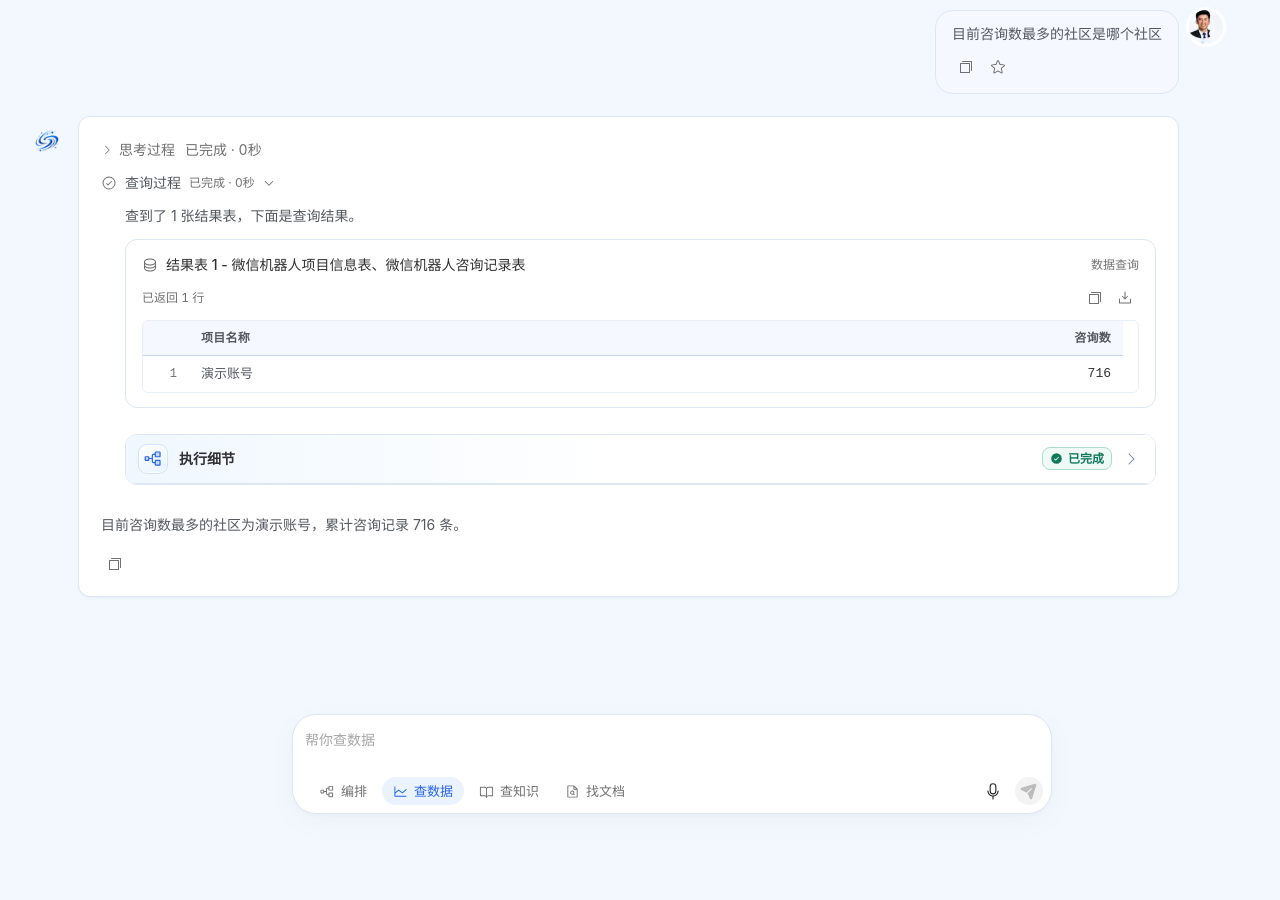
workflow page actions › nests execution and the visible result preview inside query
Expected: the text "目前咨询数最多的社区为演示账号，累计咨询记录 716 条。" is shown, x1=101 y1=516 x2=467 y2=533
Click the button "执行细节 已完成". click: {"x": 207, "y": 458}
box: x1=138 y1=439 x2=1147 y2=479
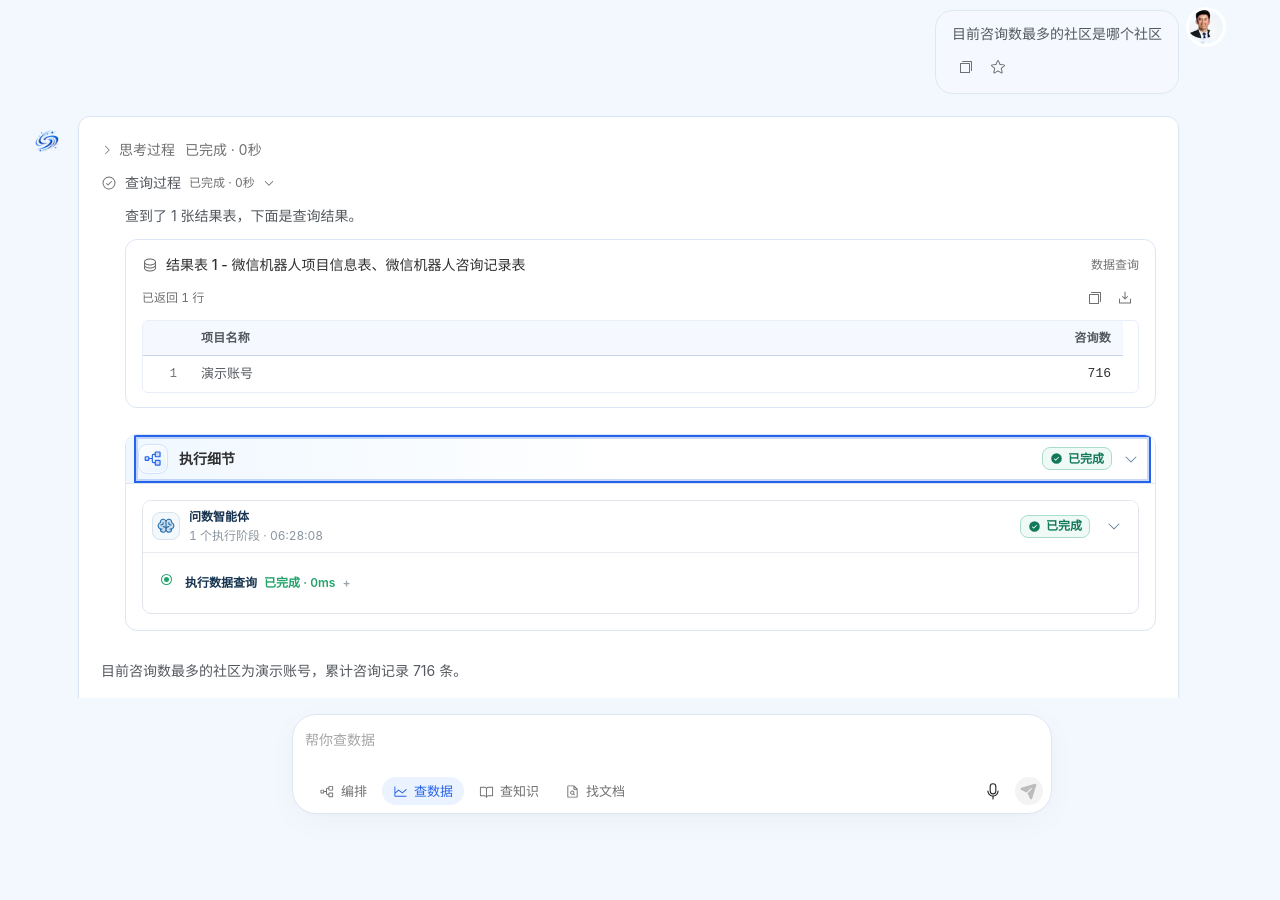
Expected: the column heading "项目名称" is shown, x1=189 y1=322 x2=656 y2=356
Result: the element named "主智能体执行过程" is shown at x1=142 y1=500 x2=1139 y2=614
